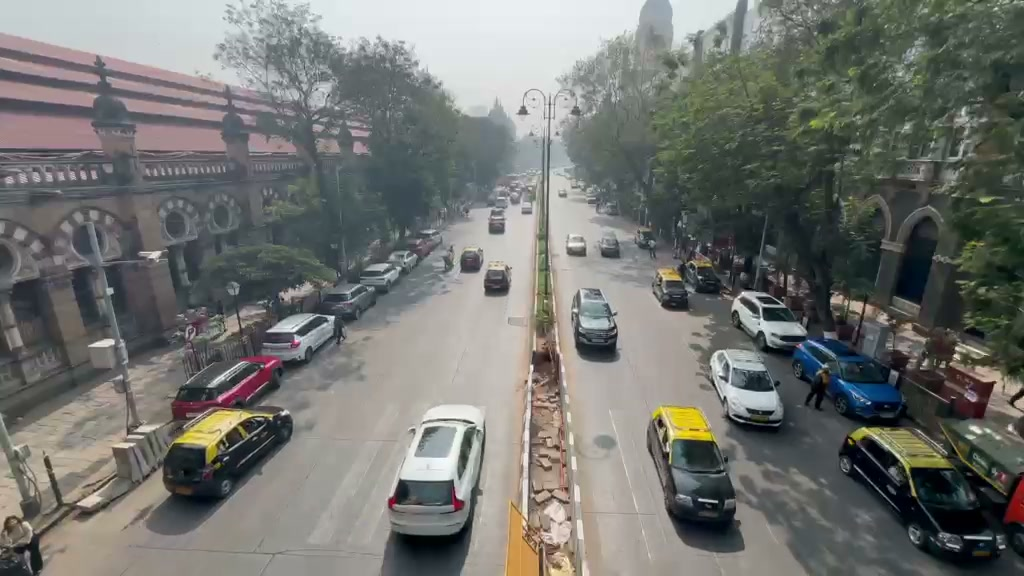car: (837, 423, 1004, 564), (385, 403, 487, 540), (160, 405, 294, 499), (646, 405, 738, 528), (791, 336, 907, 425), (169, 354, 284, 423), (709, 348, 785, 430), (821, 356, 907, 424), (790, 335, 894, 388), (729, 291, 808, 352), (259, 311, 341, 366), (572, 287, 620, 354), (315, 281, 377, 320), (651, 268, 690, 310), (358, 262, 401, 293), (684, 265, 723, 294), (483, 261, 511, 295), (387, 249, 419, 272), (459, 247, 485, 273), (598, 232, 621, 258), (565, 233, 587, 256), (488, 209, 506, 234)
truck: (938, 417, 1024, 524)
